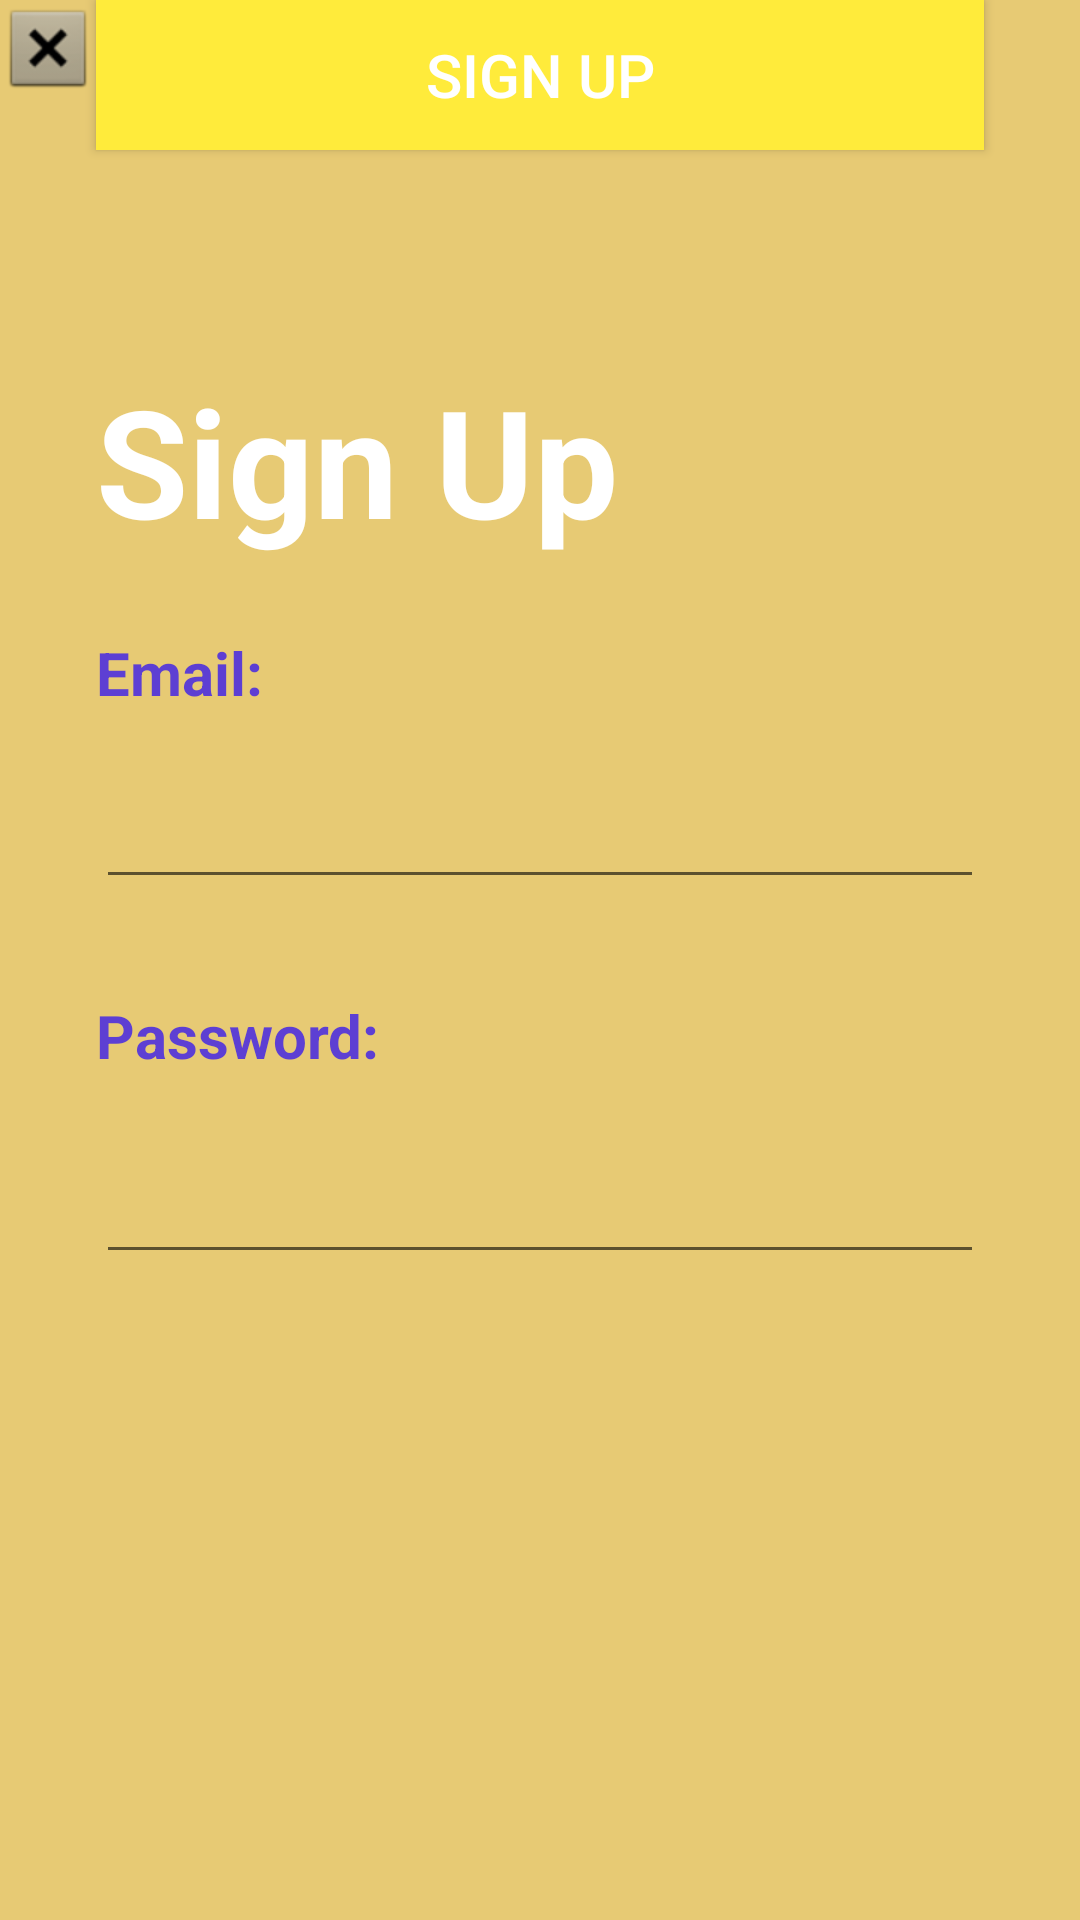

Screen size 1080*1920. Icon name, then its center in pixels as (x,y):
Cancel: (48,48)
